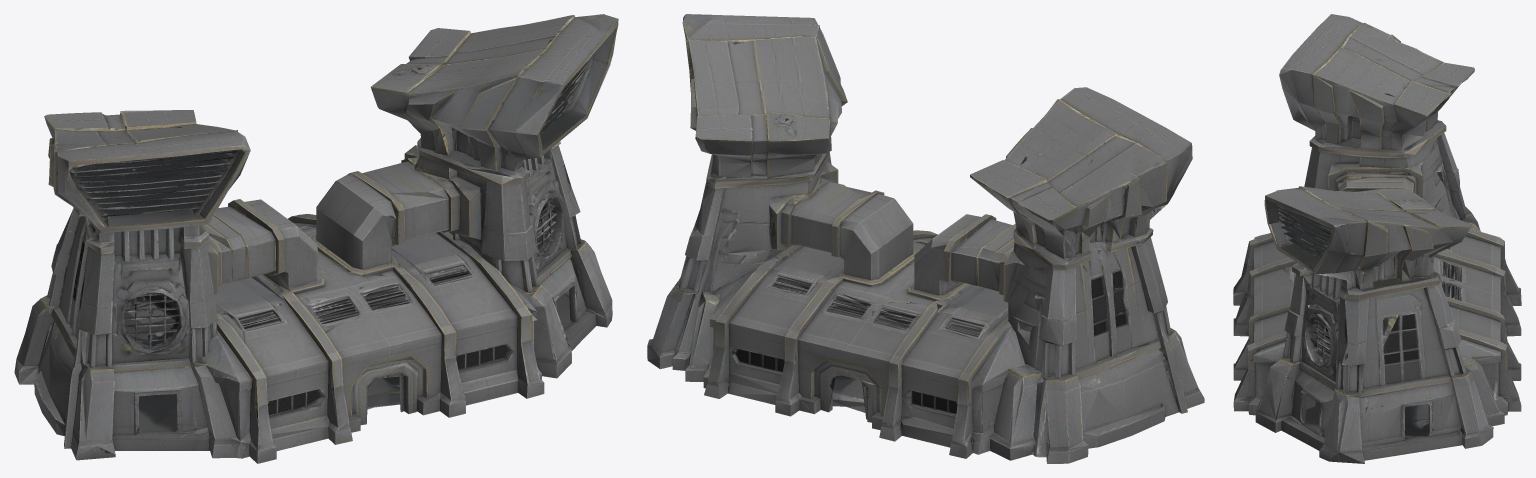
Rendered from imperial_atmospheric_harvester_lod1.glb.
The picture shows the model from 3 angles, left to right: view 1: azimuth 30°, elevation 25°; view 2: azimuth 150°, elevation 25°; view 3: azimuth 270°, elevation 25°; orthographic projection. The views are drawn at different scales.
Parts seen in each view (by area): view 1: mesh_node; view 2: mesh_node; view 3: mesh_node.
Part boxes in pixels (bbox=[...]): mesh_node: bbox=[14, 14, 618, 463]; mesh_node: bbox=[647, 14, 1204, 463]; mesh_node: bbox=[1233, 14, 1521, 463].
Bounding box in the file's own units: 37.48 × 19.23 × 20.88.
1 material, 1 textured.
